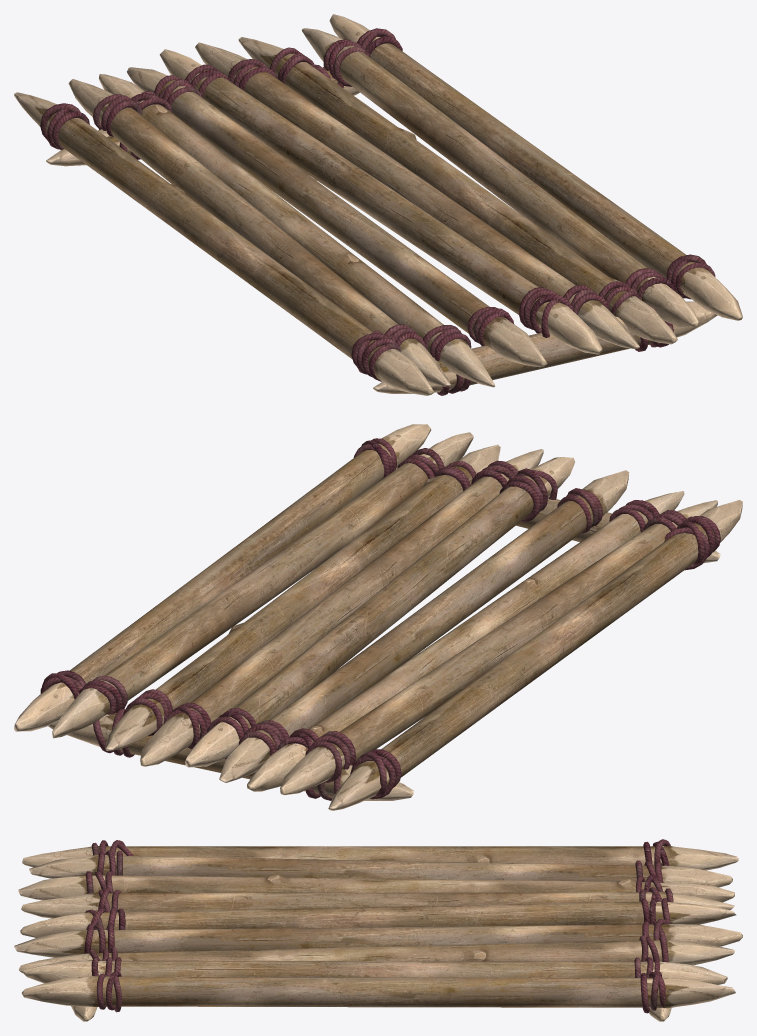
3 views of the same model, one above another, from view 1: azimuth 30°, elevation 25°; view 2: azimuth 150°, elevation 25°; view 3: azimuth 270°, elevation 25° (orthographic). The views are drawn at different scales.
Visible parts, largest first — view 1: SM_Garou_Set_SM_LogPlatform_8x4_LOD0; view 2: SM_Garou_Set_SM_LogPlatform_8x4_LOD0; view 3: SM_Garou_Set_SM_LogPlatform_8x4_LOD0.
Boxes of the visible parts, x1=… form: SM_Garou_Set_SM_LogPlatform_8x4_LOD0: x1=14, y1=14, x2=742, y2=395; SM_Garou_Set_SM_LogPlatform_8x4_LOD0: x1=14, y1=424, x2=742, y2=810; SM_Garou_Set_SM_LogPlatform_8x4_LOD0: x1=14, y1=839, x2=742, y2=1021.
Bounding box in the file's own units: 4.13 × 0.7528 × 8.3.
1 material, 1 textured.
